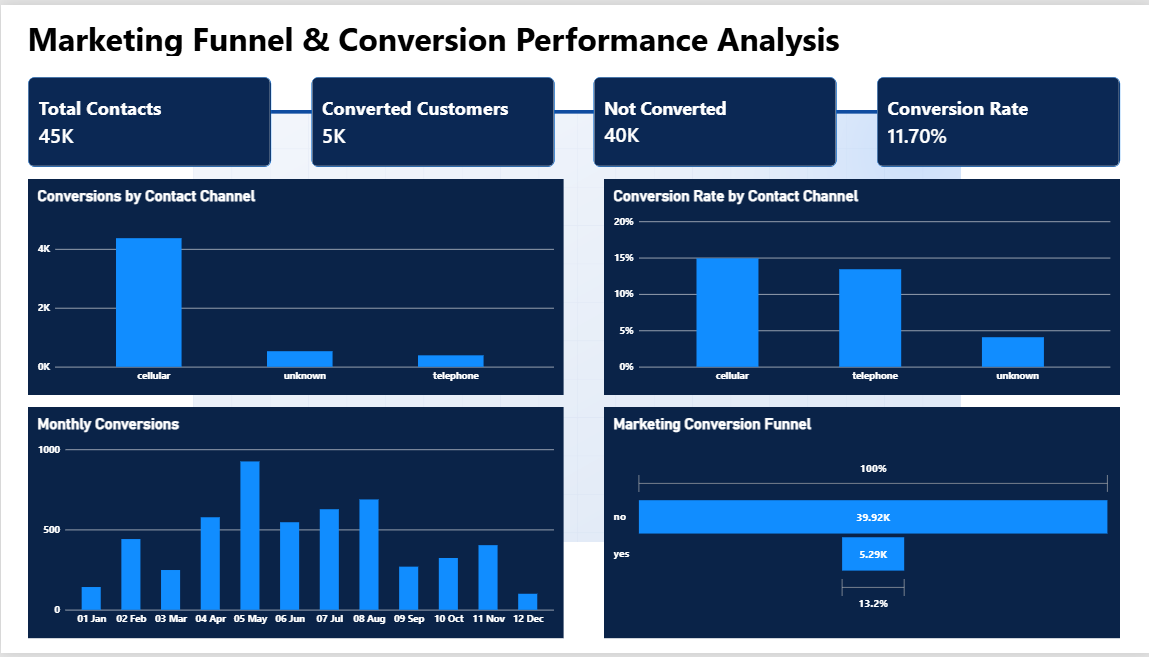

Layout of this report page (visuals, bound fields, positions):
{"tool":"powerbi","page":{"name":"Page 1","canvas":[1920,1080],"ordinal":0},"visuals":[{"type":"cardVisual","fields":{"Data":["bank-full.Total Customers"]},"box":[45,120,405,150],"z":0},{"type":"cardVisual","fields":{"Data":["bank-full.Converted Customers"]},"box":[516.7,120,405,150],"z":1},{"type":"cardVisual","fields":{"Data":["bank-full.Conversion Rate"]},"box":[1460,120,405,150],"z":2},{"type":"cardVisual","fields":{"Data":["bank-full.Not Converted Customers"]},"box":[988.3,120,405,150],"z":3},{"type":"clusteredColumnChart","title":"Conversions by Contact Channel","fields":{"Category":["bank-full.contact"],"Y":["bank-full.Converted Customers"]},"box":[45,290,892.5,360],"z":4},{"type":"clusteredColumnChart","title":"Monthly Conversions","fields":{"Category":["bank-full.Month Display"],"Y":["bank-full.Converted Customers"]},"box":[45,670,892.5,385],"z":5},{"type":"clusteredColumnChart","title":"Conversion Rate by Contact Channel","fields":{"Category":["bank-full.contact"],"Y":["bank-full.Conversion Rate"]},"box":[1005,290,860,360],"z":6},{"type":"funnel","title":"Marketing Conversion Funnel","fields":{"Category":["bank-full.y"],"Y":["CountNonNull(bank-full.y)"]},"box":[1005,670,860,385],"z":7},{"type":"textbox","box":[0,0,1921.8,83.8],"z":9}]}

Visuals, with their boxes in screenshot pixels (x1, y1, x2, y2), scaled from the page's 1920x1080 canvas onto the 1149x657 screenshot:
cardVisual - bank-full.Total Customers: [27, 73, 269, 164]
cardVisual - bank-full.Converted Customers: [309, 73, 552, 164]
cardVisual - bank-full.Conversion Rate: [874, 73, 1116, 164]
cardVisual - bank-full.Not Converted Customers: [591, 73, 834, 164]
"Conversions by Contact Channel" clusteredColumnChart: [27, 176, 561, 395]
"Monthly Conversions" clusteredColumnChart: [27, 408, 561, 642]
"Conversion Rate by Contact Channel" clusteredColumnChart: [601, 176, 1116, 395]
"Marketing Conversion Funnel" funnel: [601, 408, 1116, 642]
textbox: [0, 0, 1148, 51]
